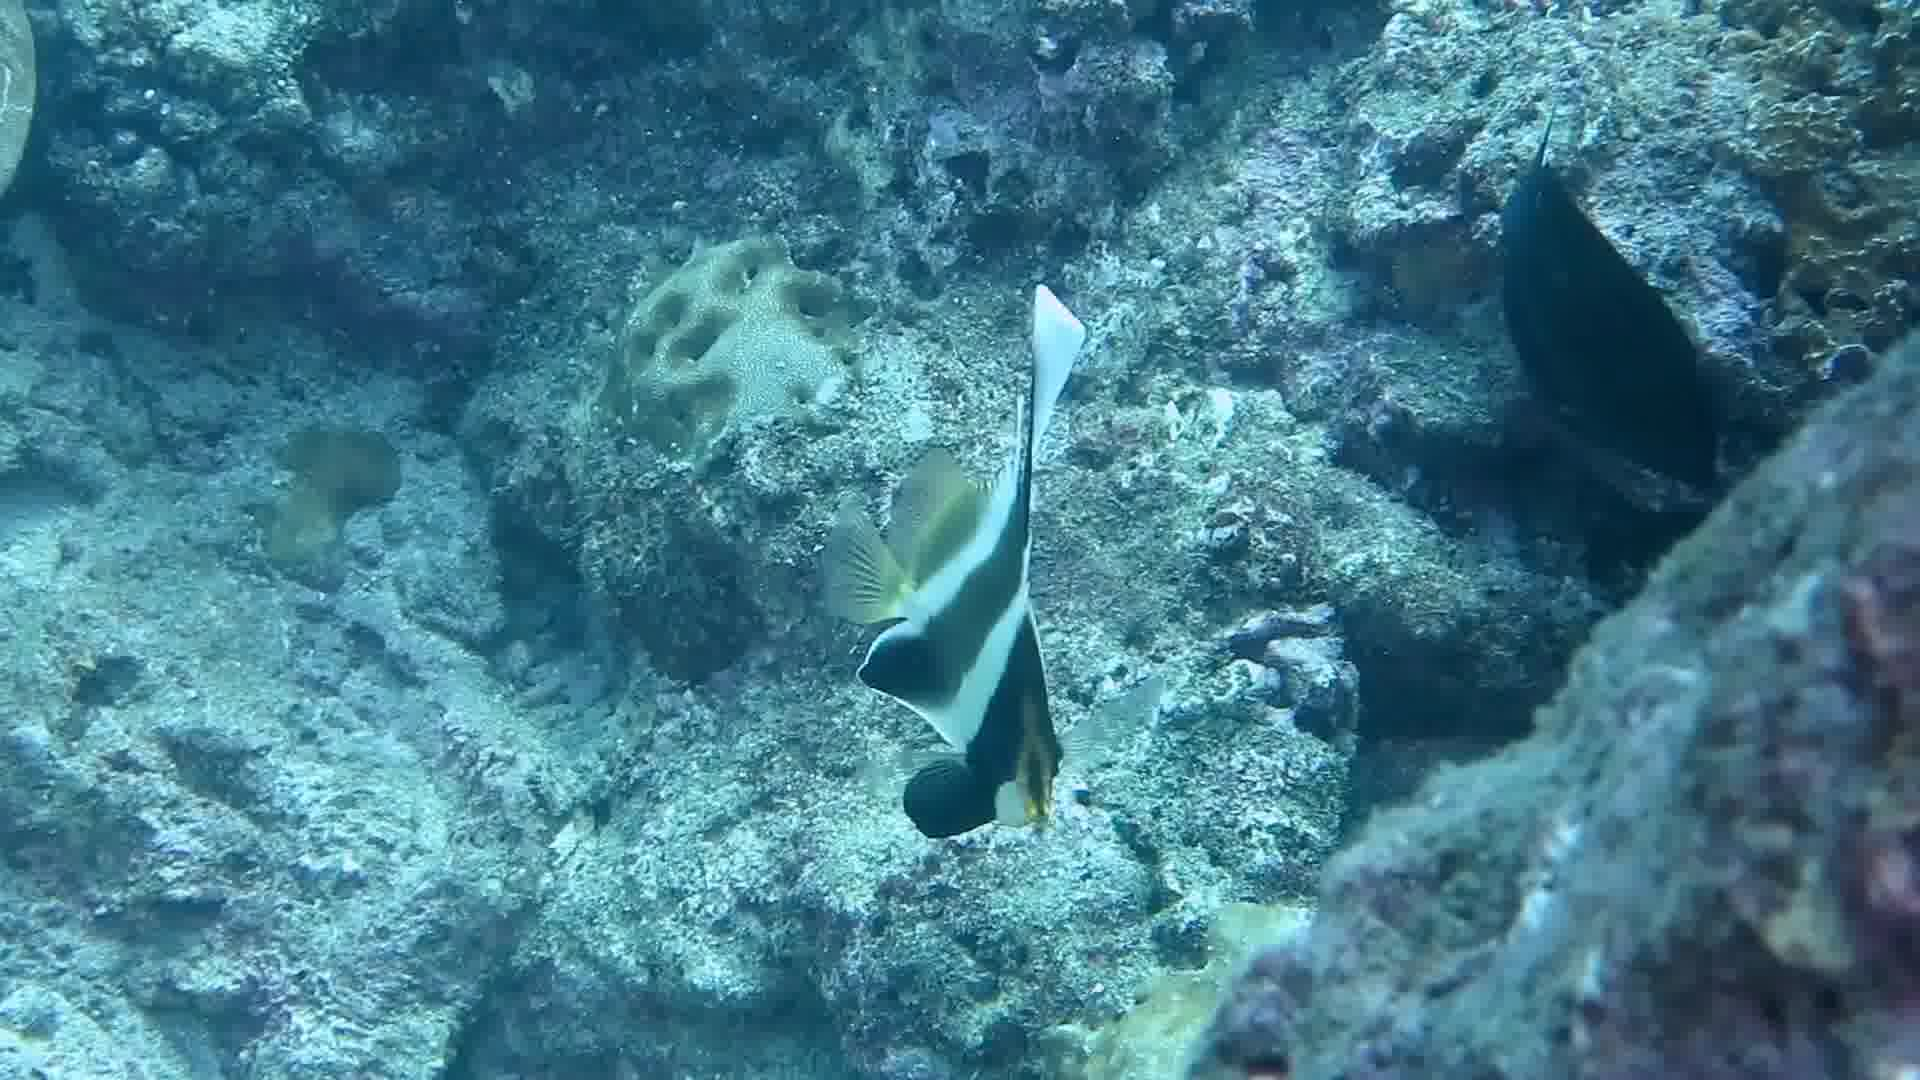Heniochus chrysostomus: (713, 280, 1244, 885)
